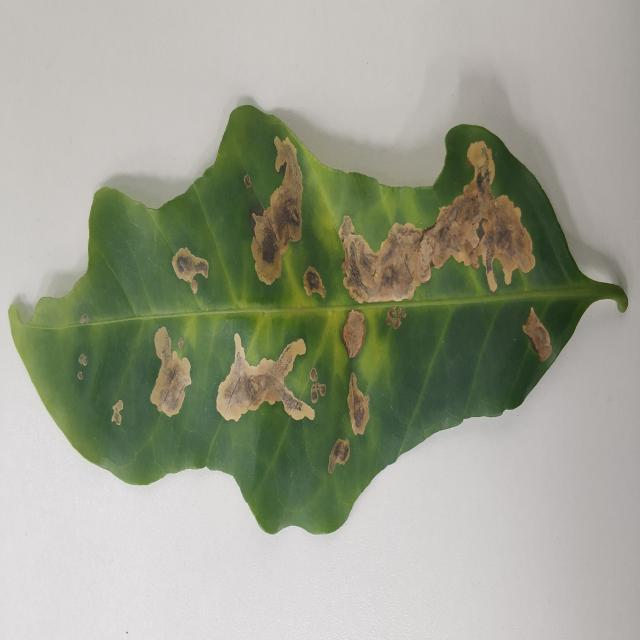Plaga-Minador: (7, 105, 629, 538)
